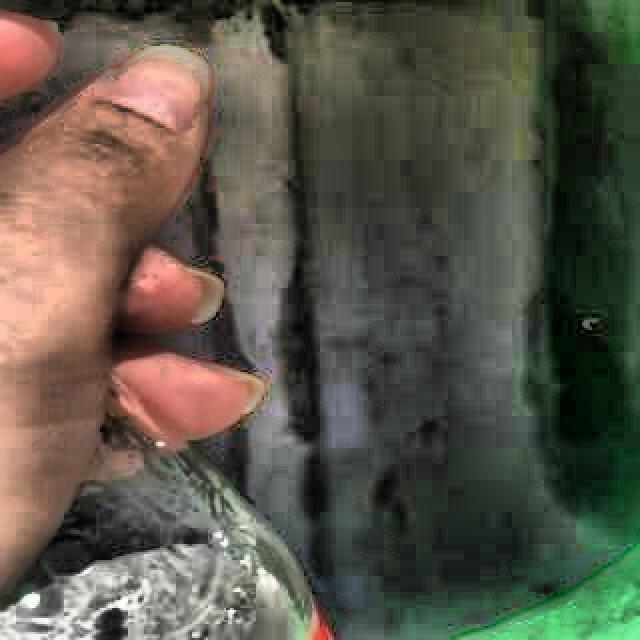glass: (0, 400, 317, 640)
